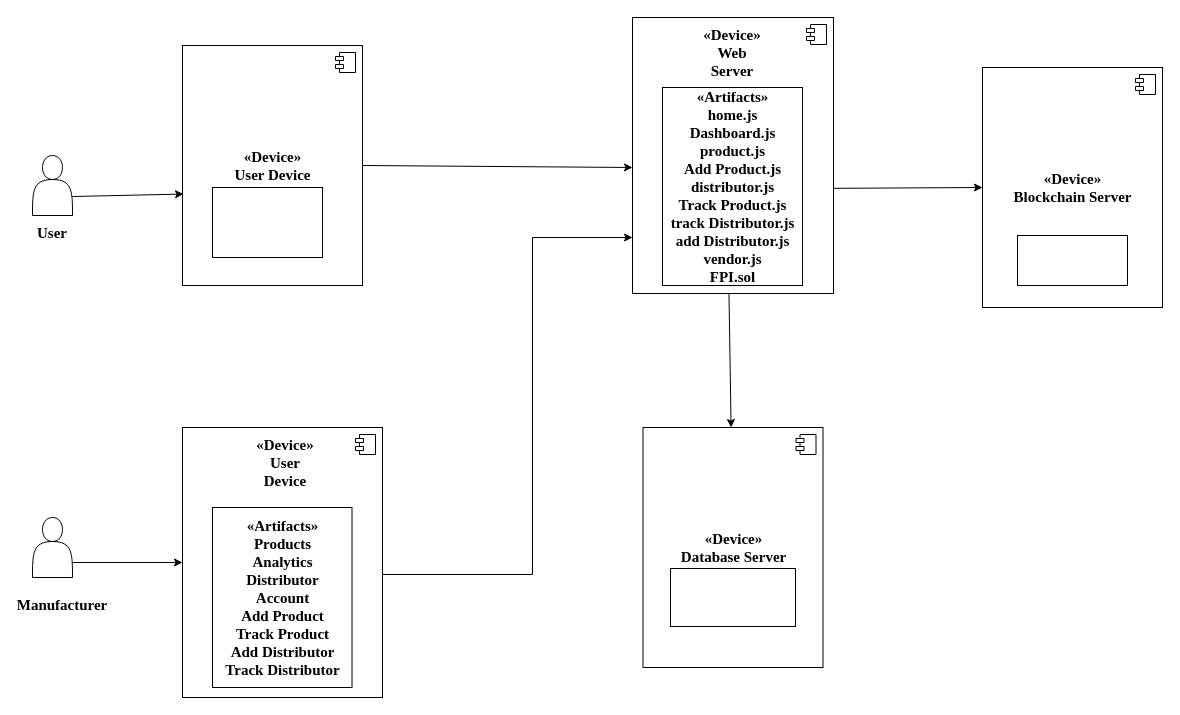
Image size: 1180x715. Some labels were removed from this diagram. Each missing label, with the centre of its shape:
"«Artifacts» Fake Product DB" belongs at (x=733, y=597).
"«Artifacts» Ganache DB" belongs at (x=1072, y=260).
"«Artifacts» QR Scanner FeedBack Form" belongs at (x=267, y=222).
